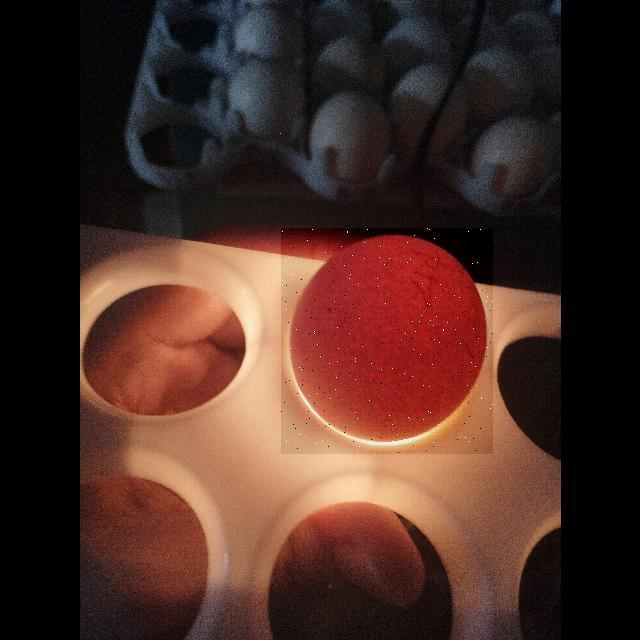A - Good: (281, 228, 493, 454)
